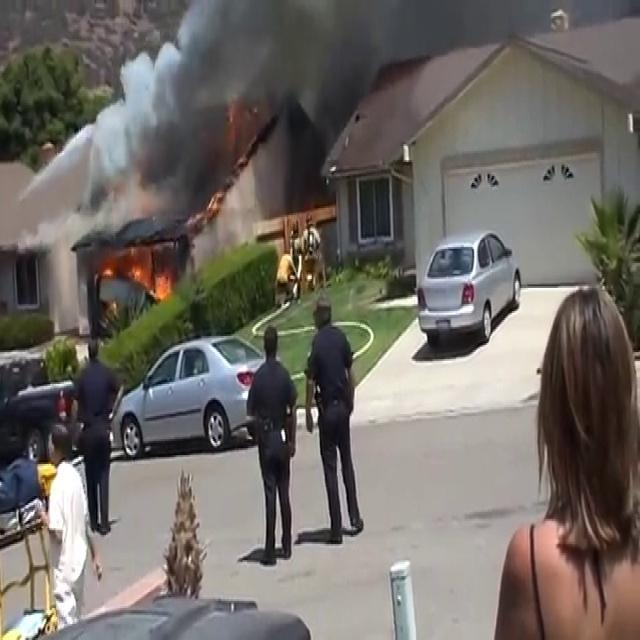Fire: (94, 241, 174, 307)
Smoke: (75, 4, 227, 241), (155, 0, 384, 137)
